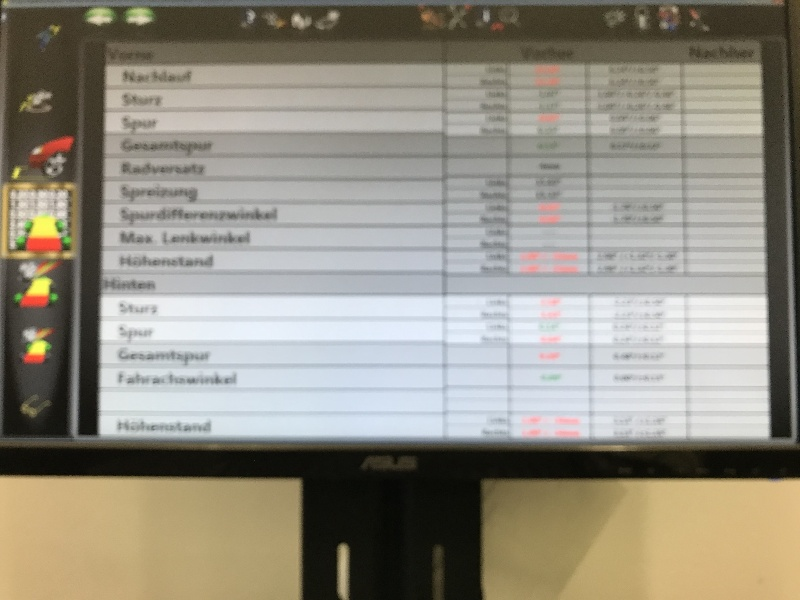wam_one: (92, 41, 597, 444)
